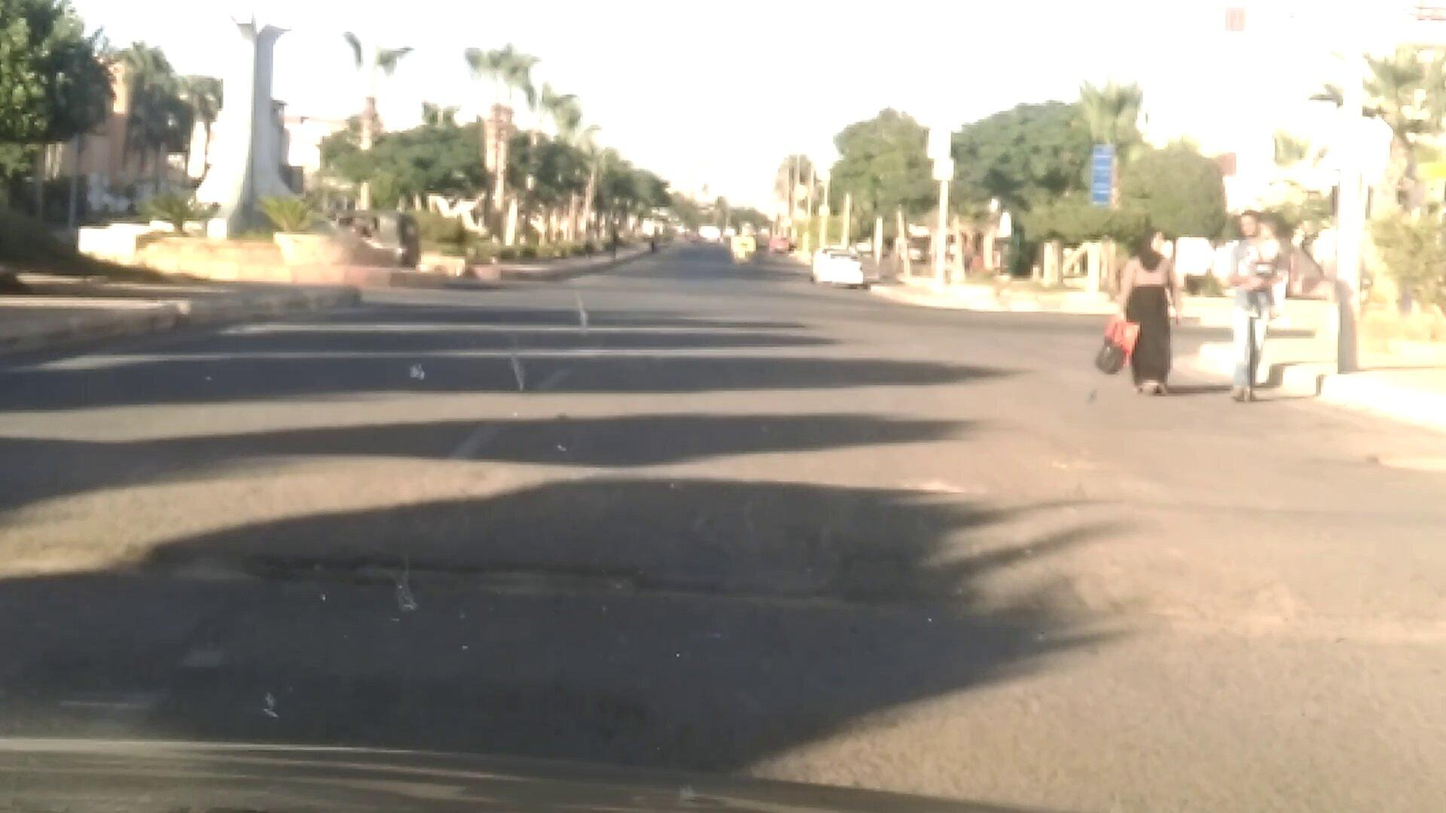Bump: (8, 422, 1446, 634)
Pothole: (164, 523, 813, 625)
